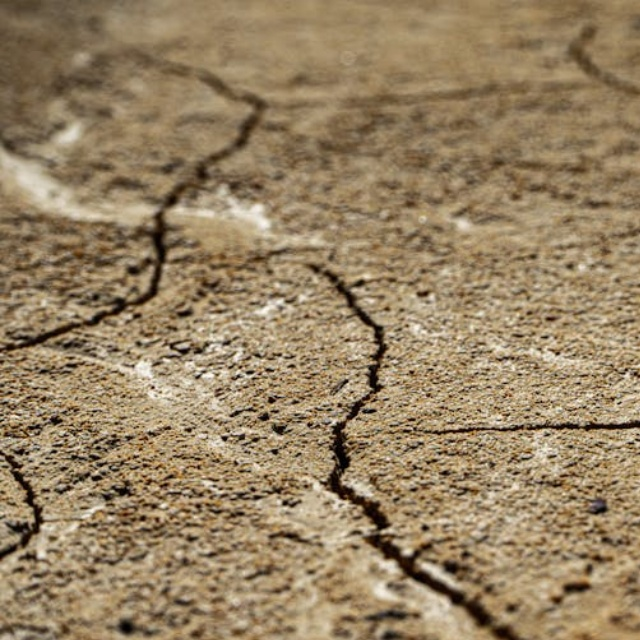细微裂纹: (259, 133, 484, 640), (477, 372, 640, 471)
